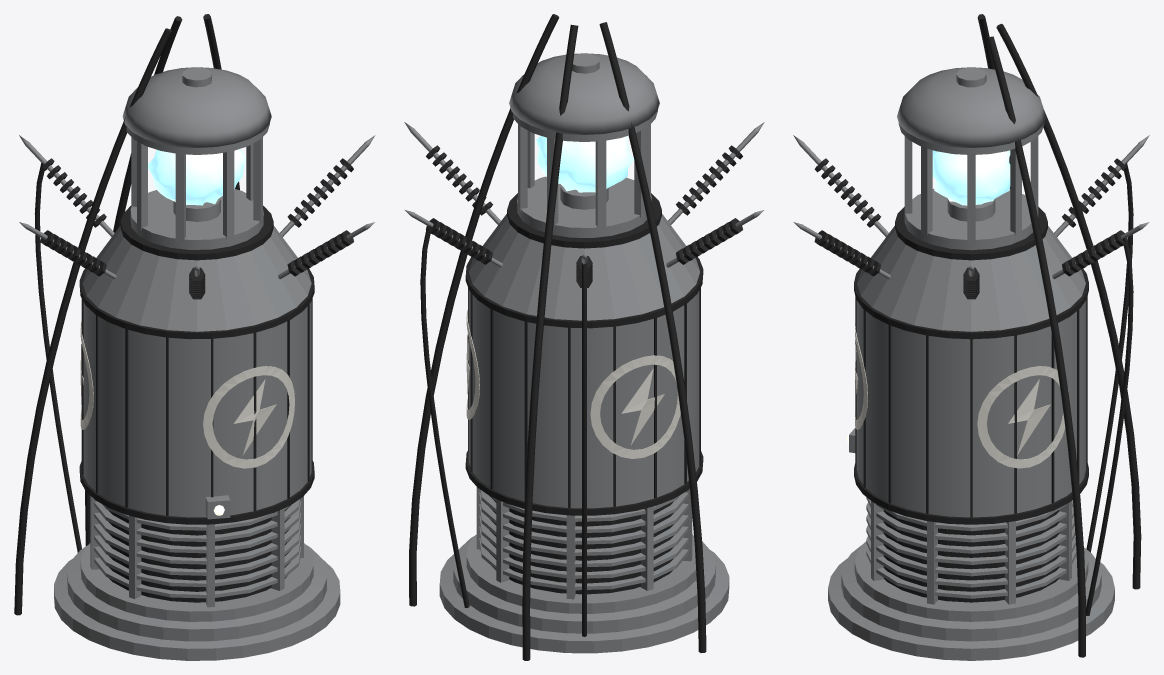
File: mdt_tower.glb
3 renders of one model, left to right at view 1: azimuth 30°, elevation 25°; view 2: azimuth 150°, elevation 25°; view 3: azimuth 270°, elevation 25°, orthographic.
Visible parts, largest first — view 1: steel__mdt_tower__solid, rubber__mdt_tower__solid, chalk__mdt_tower__ns, glow_blue__mdt_tower__ns; view 2: steel__mdt_tower__solid, rubber__mdt_tower__solid, chalk__mdt_tower__ns, glow_blue__mdt_tower__ns; view 3: steel__mdt_tower__solid, rubber__mdt_tower__solid, chalk__mdt_tower__ns, glow_blue__mdt_tower__ns.
Part boxes in pixels (bbox=[...]): steel__mdt_tower__solid: bbox=[19, 67, 375, 660]; rubber__mdt_tower__solid: bbox=[14, 14, 353, 615]; chalk__mdt_tower__ns: bbox=[80, 321, 294, 468]; glow_blue__mdt_tower__ns: bbox=[148, 149, 246, 205]; steel__mdt_tower__solid: bbox=[404, 53, 764, 653]; rubber__mdt_tower__solid: bbox=[409, 14, 742, 660]; chalk__mdt_tower__ns: bbox=[466, 310, 680, 458]; glow_blue__mdt_tower__ns: bbox=[536, 136, 634, 192]; steel__mdt_tower__solid: bbox=[793, 67, 1149, 660]; rubber__mdt_tower__solid: bbox=[814, 14, 1141, 657]; chalk__mdt_tower__ns: bbox=[855, 323, 1068, 468]; glow_blue__mdt_tower__ns: bbox=[932, 150, 1010, 205].
Bounding box in the file's own units: 4.31 × 6.62 × 3.73.
